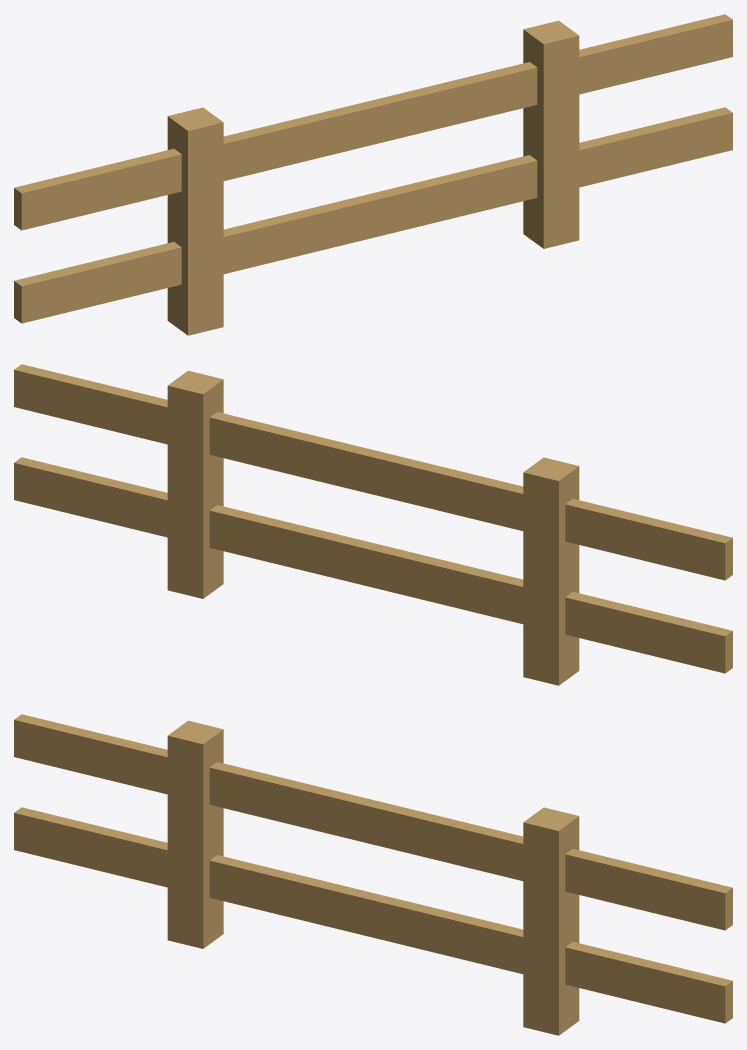
The model's file is fence-mid-piece-x2.glb.
3 renders of one model, top to bottom at view 1: azimuth 30°, elevation 25°; view 2: azimuth 150°, elevation 25°; view 3: azimuth 330°, elevation 25°, orthographic.
Parts seen in each view (by area): view 1: fence-mid-piece-x2; view 2: fence-mid-piece-x2; view 3: fence-mid-piece-x2.
Boxes of the visible parts, x1,y1,x2,y2 form: fence-mid-piece-x2: (14,14,732,335); fence-mid-piece-x2: (14,364,732,685); fence-mid-piece-x2: (14,714,732,1035).
Size of the model in its own units: 4 by 1.1 by 0.2.
